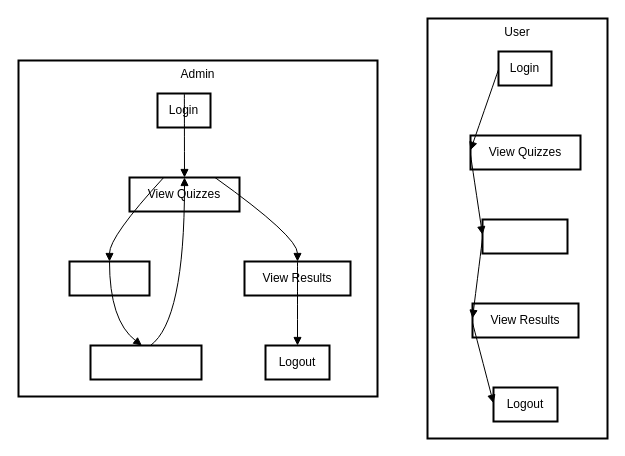
Image size: 625x456. Some labels were removed from this diagram. Here are the shapes that lost their labels. From the top down, the centre of each, then its label:
the point at 524,236: Take Quiz
the point at 109,278: Add Quiz
the point at 145,362: Add Question
